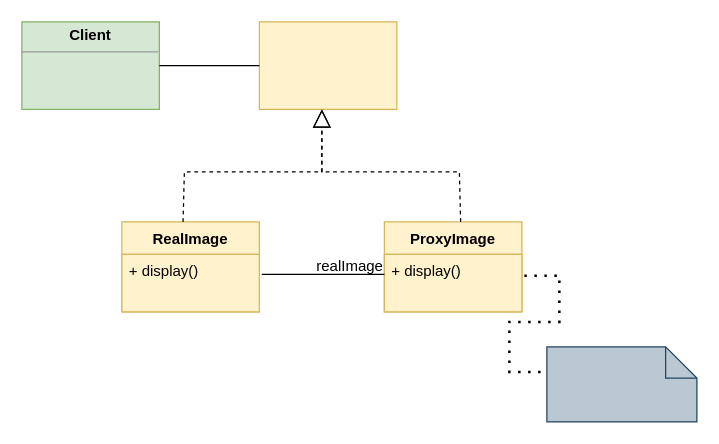
This 719x444 diagram has some shape labels left out. Each missing label, with the box of its shape:
<<Interface>> Image + display():: (258, 21, 397, 109)
reealImage.display: (546, 346, 697, 422)
